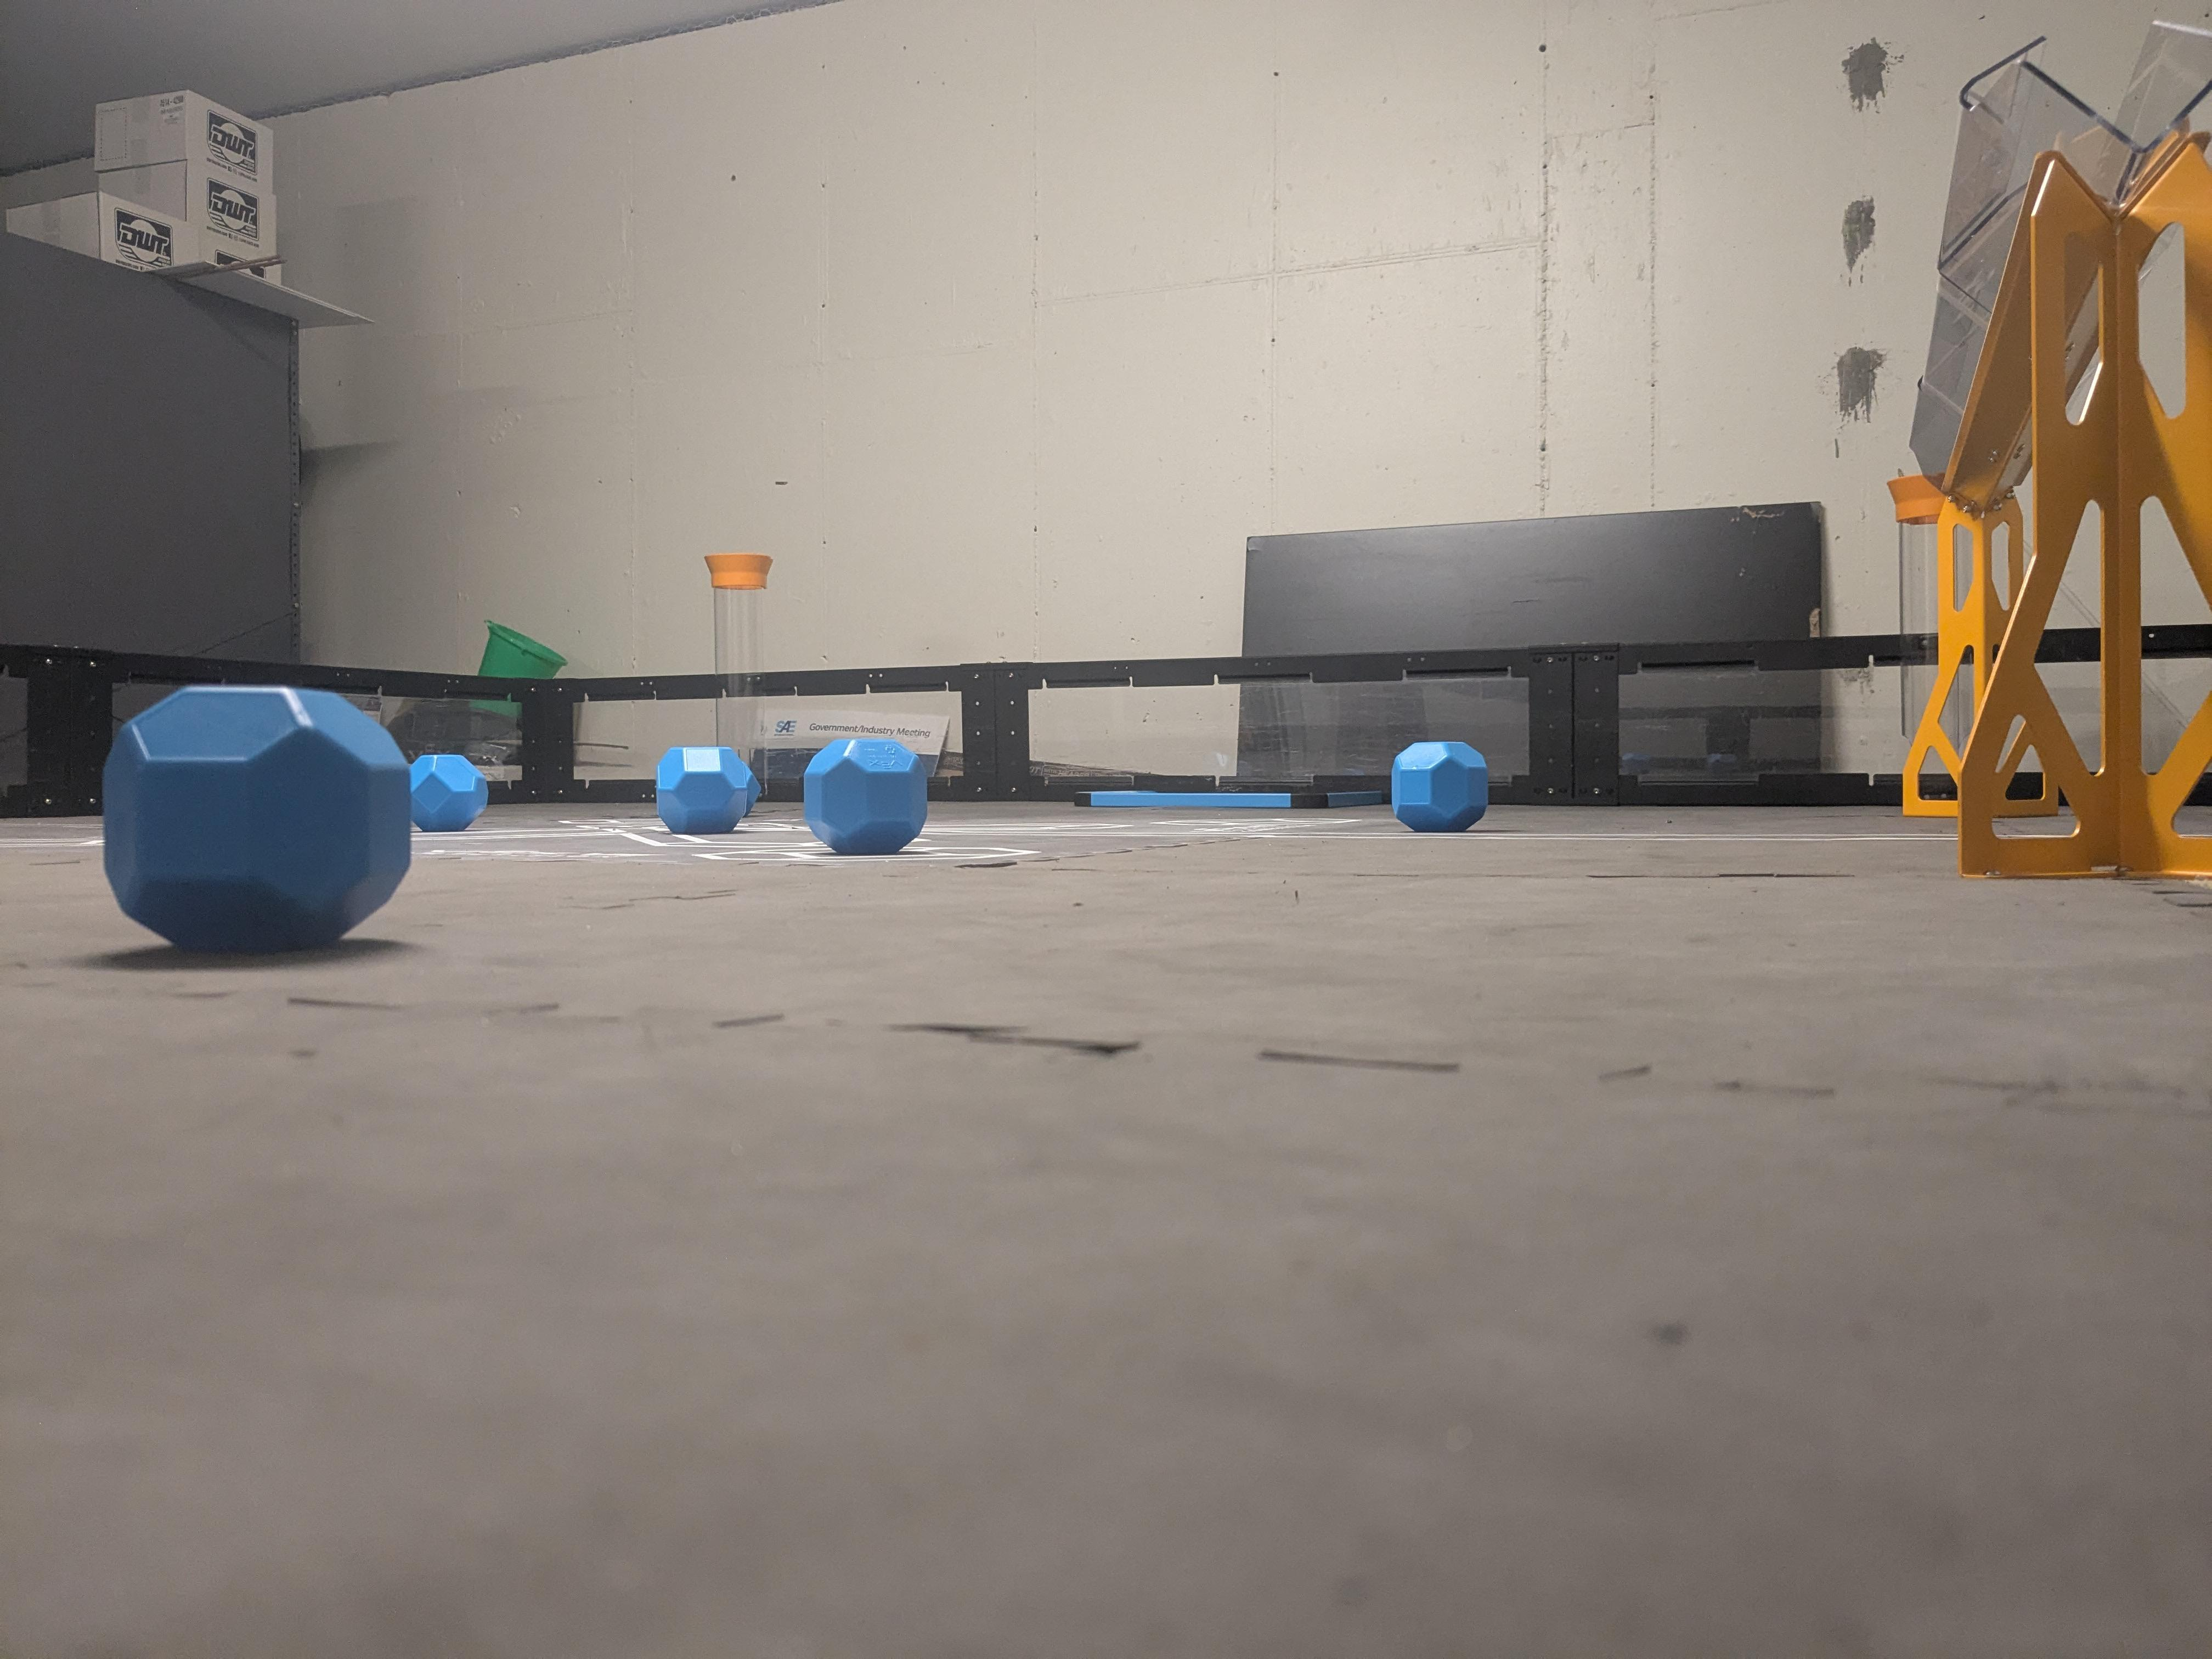Vex-Pieces-BLUE: (99, 687, 453, 957), (805, 739, 930, 850), (653, 746, 761, 835), (1390, 744, 1489, 826)
